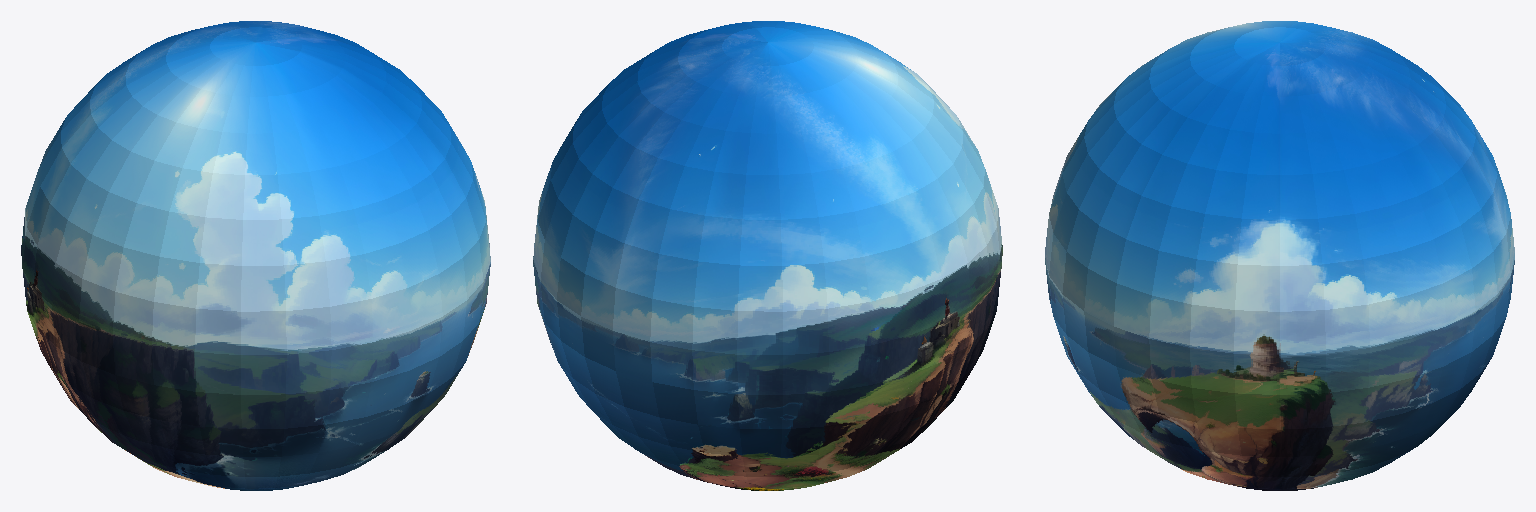
3 renders of one model, left to right at view 1: azimuth 30°, elevation 25°; view 2: azimuth 150°, elevation 25°; view 3: azimuth 270°, elevation 25°, orthographic.
Parts seen in each view (by area): view 1: 球_球.004; view 2: 球_球.004; view 3: 球_球.004.
Part boxes in pixels (left/top/right/bottom): 球_球.004: left=21, top=21, right=490, bottom=490; 球_球.004: left=533, top=21, right=1002, bottom=490; 球_球.004: left=1045, top=21, right=1514, bottom=490.
Size of the model in its own units: 200 by 200 by 200.
Materials: 1 (1 with a texture image).